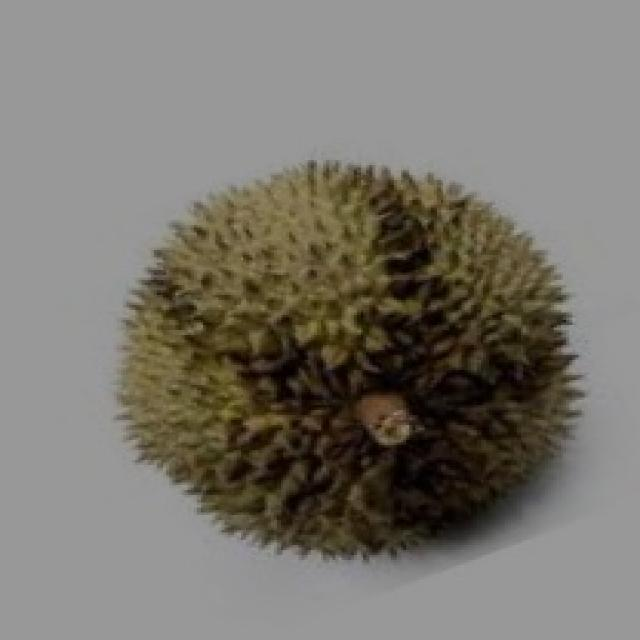fruit: (271, 172, 631, 620), (65, 230, 449, 620)
